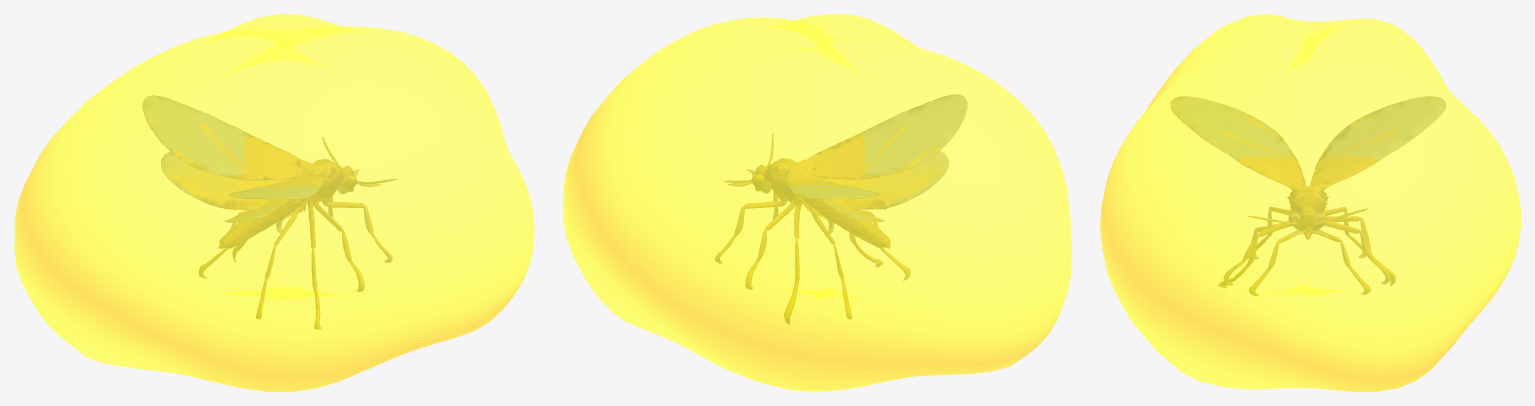
File: amber.glb
The picture shows the model from 3 angles, left to right: view 1: azimuth 30°, elevation 25°; view 2: azimuth 150°, elevation 25°; view 3: azimuth 270°, elevation 25°; orthographic projection. The views are drawn at different scales.
Visible parts, largest first — view 1: amber, tripo_node_d7e445b5-7740-4cdf-9fc5-9b3ea7aaf52f; view 2: amber, tripo_node_d7e445b5-7740-4cdf-9fc5-9b3ea7aaf52f; view 3: amber, tripo_node_d7e445b5-7740-4cdf-9fc5-9b3ea7aaf52f.
Boxes of the visible parts, x1=… form: amber: x1=14, y1=14, x2=534, y2=391; tripo_node_d7e445b5-7740-4cdf-9fc5-9b3ea7aaf52f: x1=142, y1=95, x2=397, y2=328; amber: x1=563, y1=14, x2=1071, y2=391; tripo_node_d7e445b5-7740-4cdf-9fc5-9b3ea7aaf52f: x1=715, y1=94, x2=967, y2=324; amber: x1=1100, y1=14, x2=1520, y2=391; tripo_node_d7e445b5-7740-4cdf-9fc5-9b3ea7aaf52f: x1=1171, y1=96, x2=1445, y2=295.
Size of the model in its own units: 0.0614 by 0.0359 by 0.0489.
